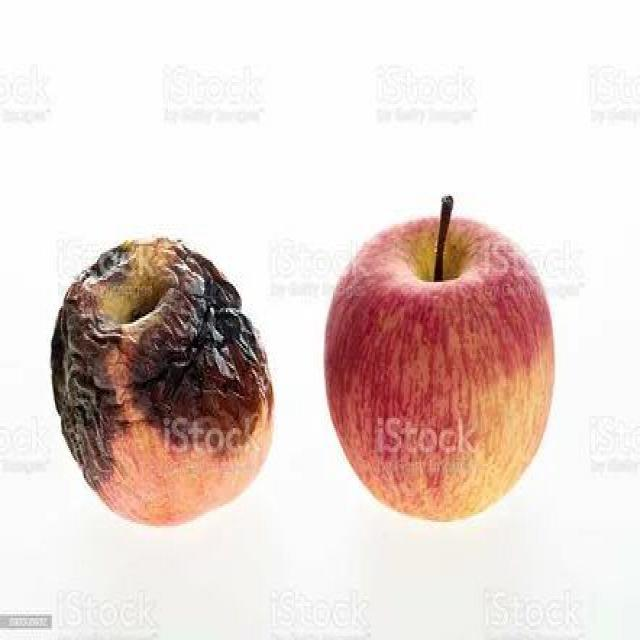fresh_apple: (325, 217, 557, 517)
rotten_apple: (51, 240, 275, 532)
